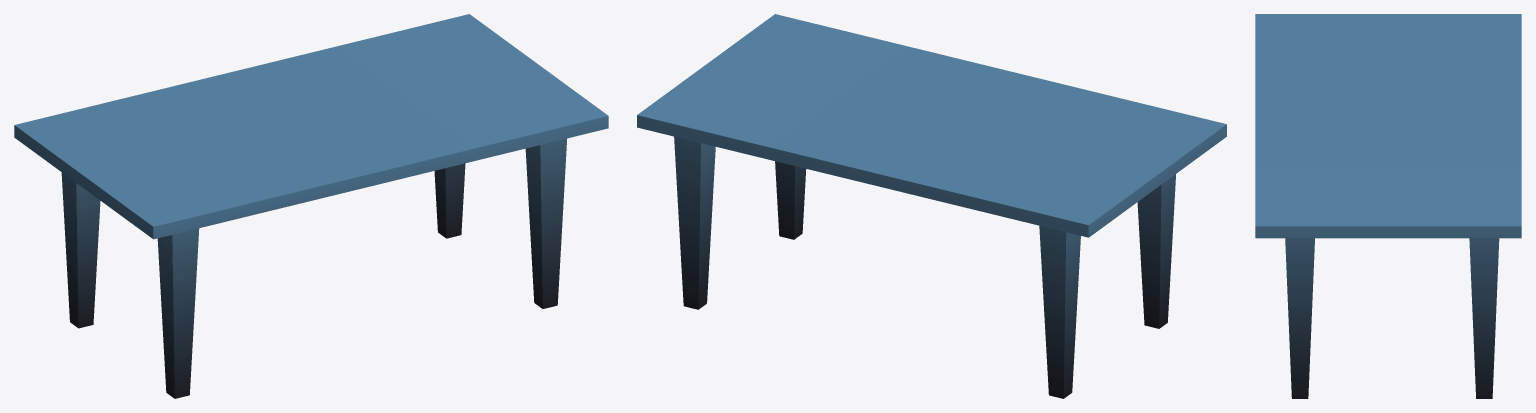
Rendered from Table.fbx.
3 views of the same model, side by side, from view 1: azimuth 30°, elevation 25°; view 2: azimuth 150°, elevation 25°; view 3: azimuth 270°, elevation 25° (orthographic). The views are drawn at different scales.
Parts seen in each view (by area): view 1: Table; view 2: Table; view 3: Table.
Part boxes in pixels (x1=…): Table: x1=14, y1=14, x2=608, y2=398; Table: x1=637, y1=14, x2=1226, y2=398; Table: x1=1255, y1=14, x2=1521, y2=398.
Size of the model in its own units: 10517 by 4326 by 5568.
